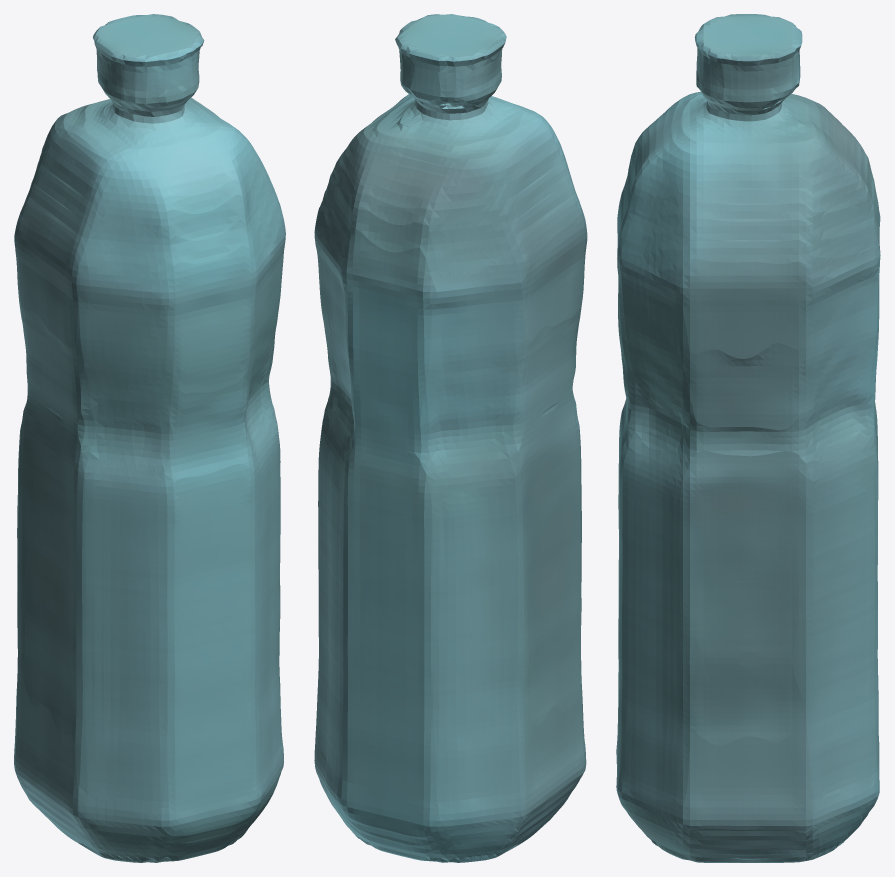
The picture shows the model from 3 angles, left to right: view 1: azimuth 30°, elevation 25°; view 2: azimuth 150°, elevation 25°; view 3: azimuth 270°, elevation 25°; orthographic projection.
Visible parts, largest first — view 1: tmp2j2k4ngv.ply; view 2: tmp2j2k4ngv.ply; view 3: tmp2j2k4ngv.ply.
Part boxes in pixels (x1=…): tmp2j2k4ngv.ply: x1=14, y1=14, x2=285, y2=862; tmp2j2k4ngv.ply: x1=314, y1=14, x2=587, y2=862; tmp2j2k4ngv.ply: x1=616, y1=14, x2=880, y2=862.
Size of the model in its own units: 0.5612 by 1.98 by 0.5999.
